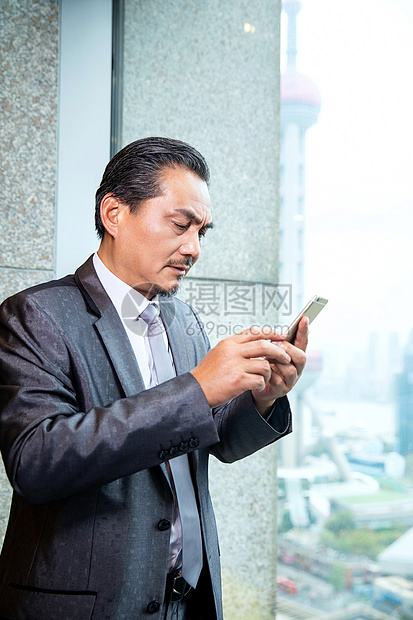reading: (194, 289, 332, 410)
